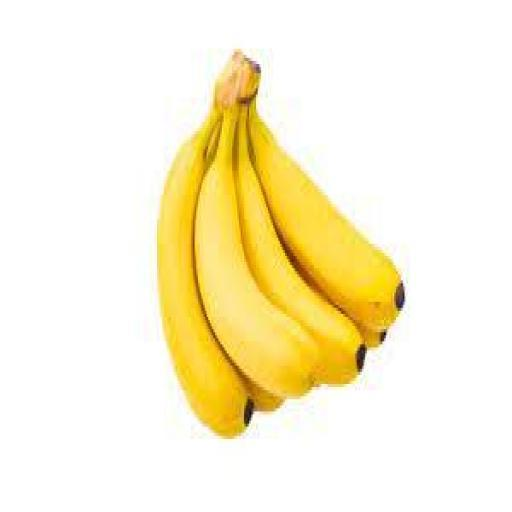banana: (236, 107, 365, 383), (250, 101, 404, 332), (195, 107, 317, 396), (159, 107, 252, 435)
